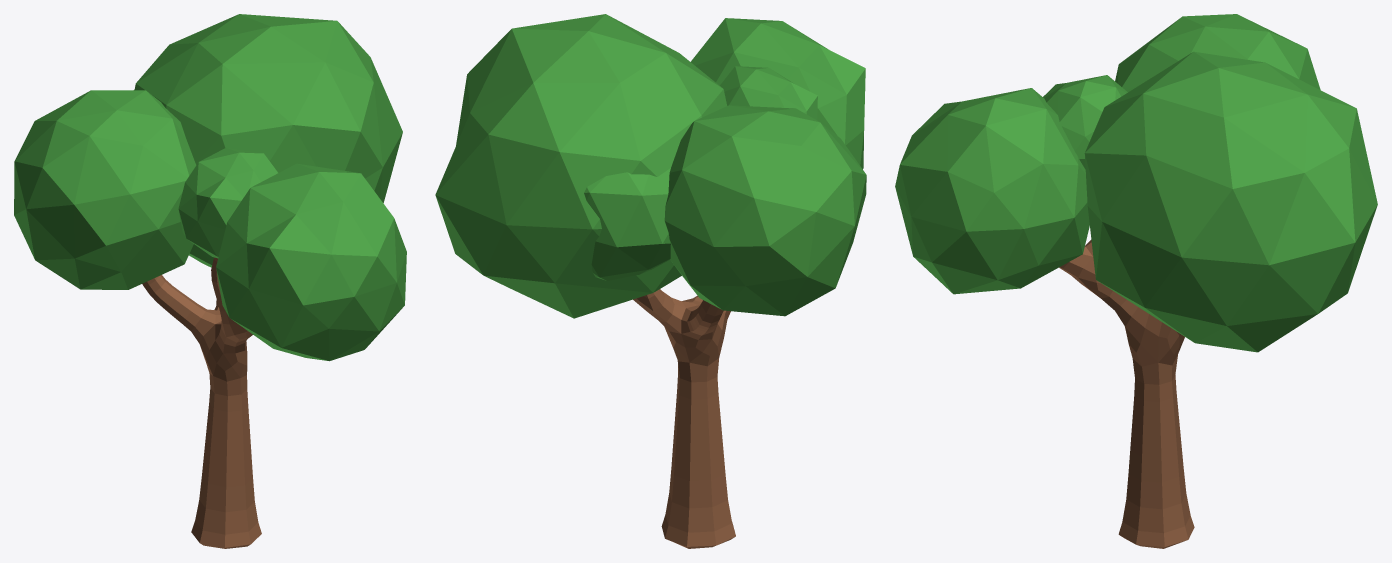
File: tree2.fbx
3 views of the same model, side by side, from view 1: azimuth 30°, elevation 25°; view 2: azimuth 150°, elevation 25°; view 3: azimuth 270°, elevation 25° (orthographic). The views are drawn at different scales.
Visible parts, largest first — view 1: trunk; view 2: trunk; view 3: trunk.
Boxes of the visible parts, x1,y1,x2,y2 form: trunk: (14,14,406,548); trunk: (435,14,866,548); trunk: (895,14,1377,548).
Size of the model in its own units: 618 by 774 by 667.
